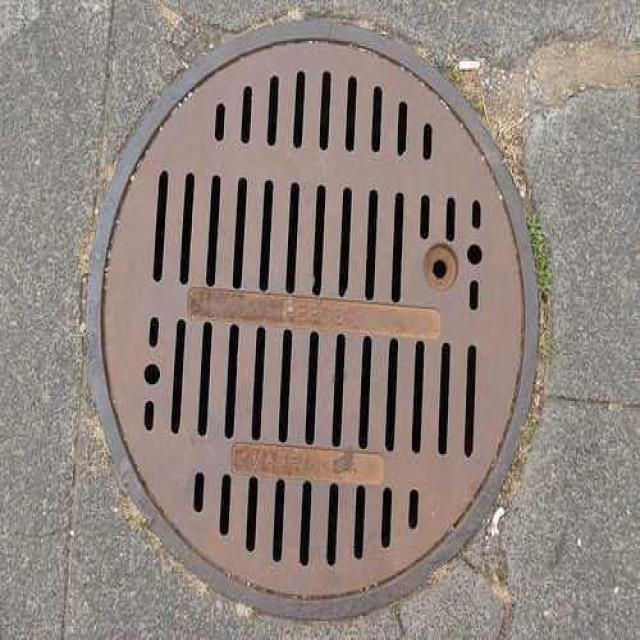manhole: (86, 20, 540, 625)
